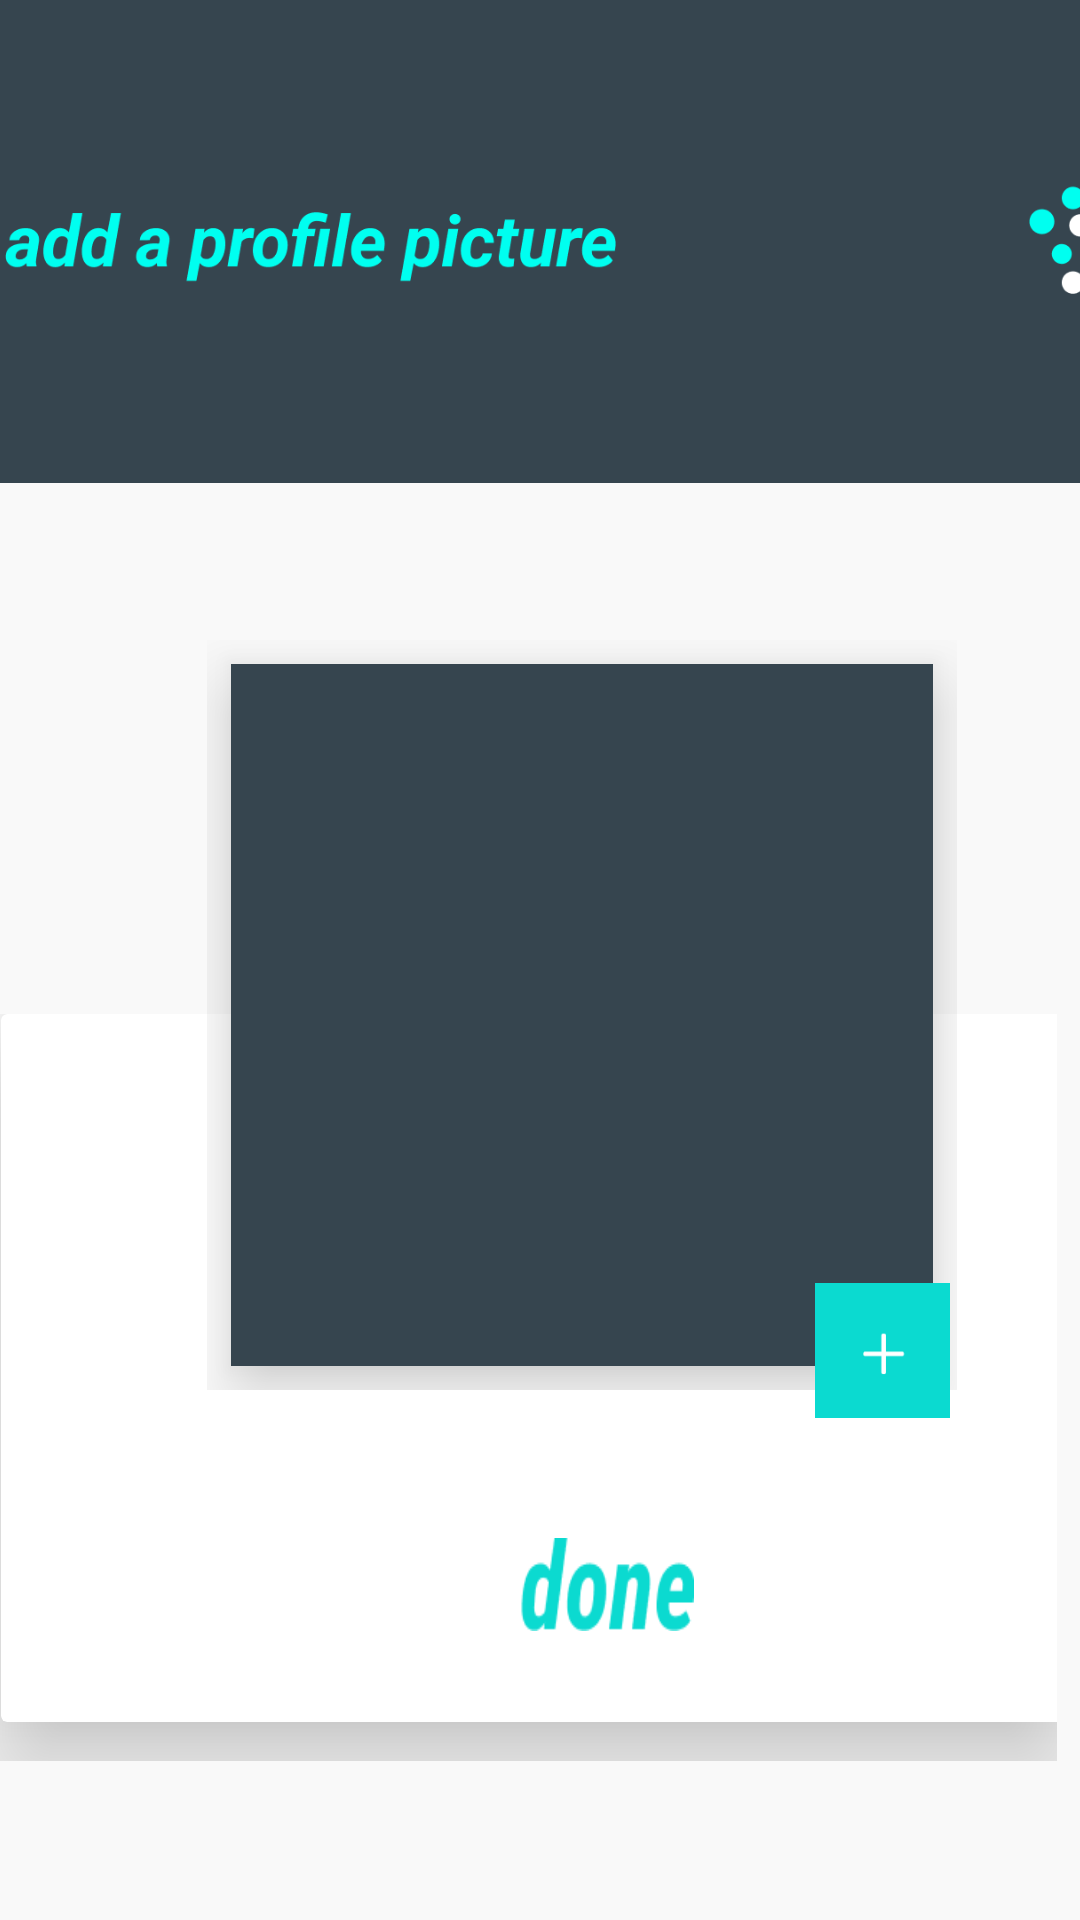

Named icons in this screenshot (1080×1920) and their centers, [x,y]:
add: [882,1350]
